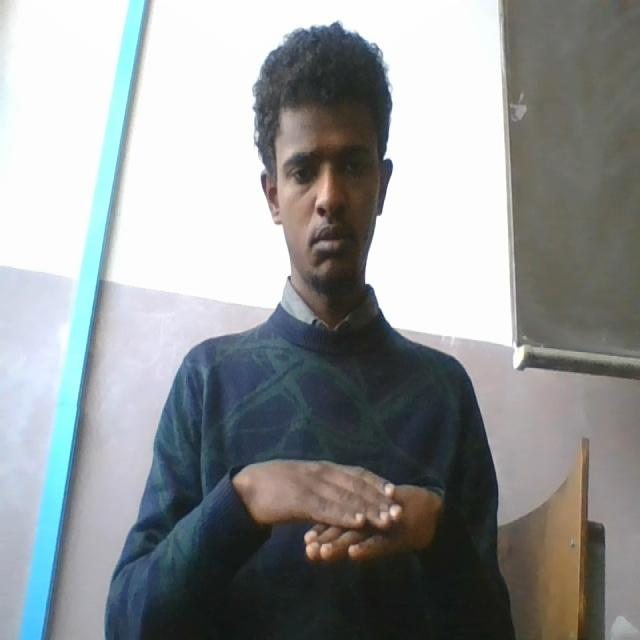lay: (247, 453, 437, 577)
